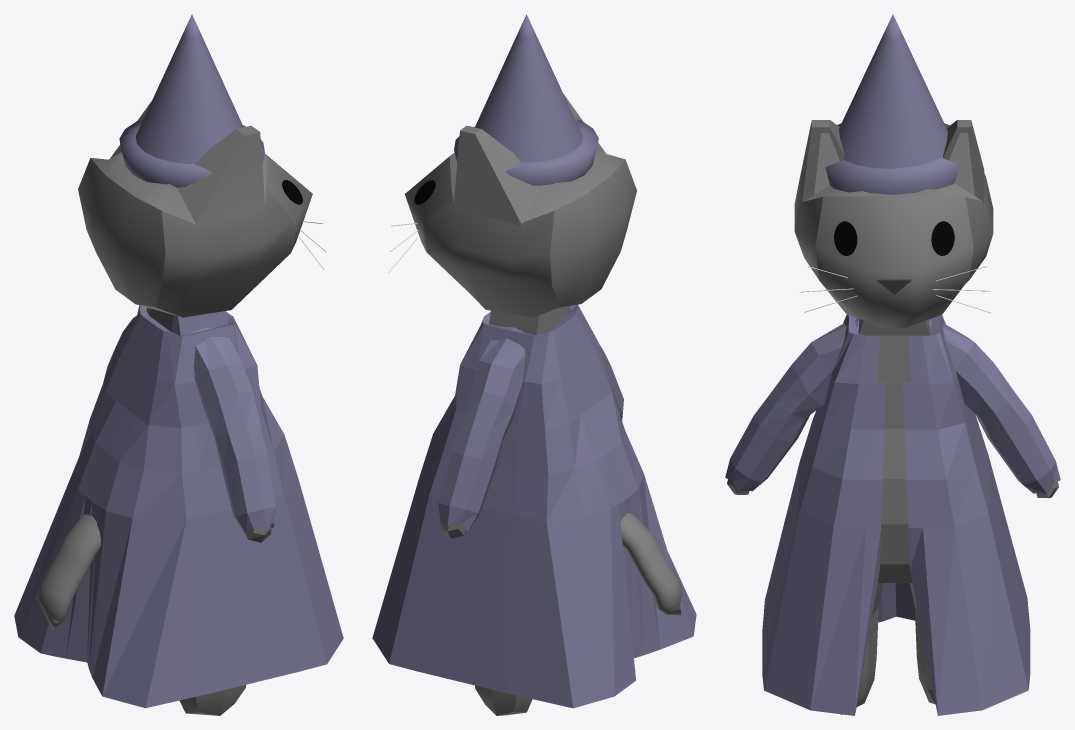
The model's file is Wizard.fbx.
3 renders of one model, left to right at view 1: azimuth 30°, elevation 25°; view 2: azimuth 150°, elevation 25°; view 3: azimuth 270°, elevation 25°, orthographic. The views are drawn at different scales.
Visible parts, largest first — view 1: CatHead:Body1, CatHead:Head, pCone1, CatHead:Arm1, CatHead:pCylinder1, CatHead:leg3; view 2: CatHead:Body1, CatHead:Head, pCone1, Arm1, CatHead:pCylinder1, CatHead:leg2; view 3: CatHead:Body1, CatHead:Head, pCone1, CatHead:Arm1, Arm1, CatHead:leg3, CatHead:leg2, Pupil_1, Pupil_2.
Part boxes in pixels (<box>): CatHead:Body1: <box>14,305,343,708</box>; CatHead:Head: <box>78,101,312,317</box>; pCone1: <box>119,14,264,187</box>; CatHead:Arm1: <box>189,327,275,542</box>; CatHead:pCylinder1: <box>36,514,100,629</box>; CatHead:leg3: <box>179,685,246,715</box>; CatHead:Body1: <box>372,305,696,708</box>; CatHead:Head: <box>404,93,636,317</box>; pCone1: <box>454,14,598,185</box>; Arm1: <box>438,326,525,538</box>; CatHead:pCylinder1: <box>620,513,682,615</box>; CatHead:leg2: <box>475,685,532,715</box>; CatHead:Body1: <box>762,315,1030,715</box>; CatHead:Head: <box>794,120,993,327</box>; pCone1: <box>825,14,959,194</box>; CatHead:Arm1: <box>725,318,859,494</box>; Arm1: <box>929,319,1060,498</box>; CatHead:leg3: <box>841,583,883,714</box>; CatHead:leg2: <box>910,583,935,704</box>; Pupil_1: <box>834,221,857,255</box>; Pupil_2: <box>931,221,954,255</box>.
Size of the model in its own units: 112 by 266 by 115.
